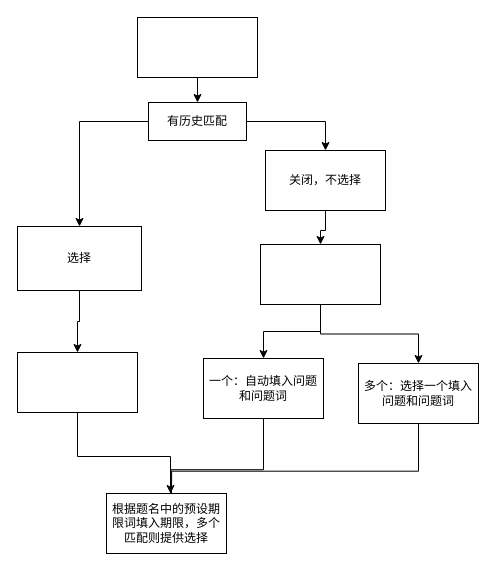
The diagram is 496 pixels wide and 571 high, and some of its shapes have lost their labels. The centre of each missing label's shape, as x and y in pixels:
提取问题和问题词: the point at 77,382
输完题名: the point at 197,47
题名中的问题词去匹配问题: the point at 320,274
